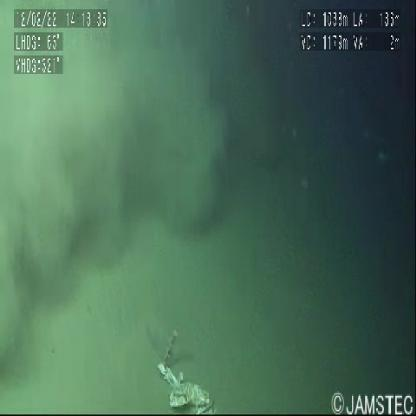Rác: (156, 359, 214, 415)
